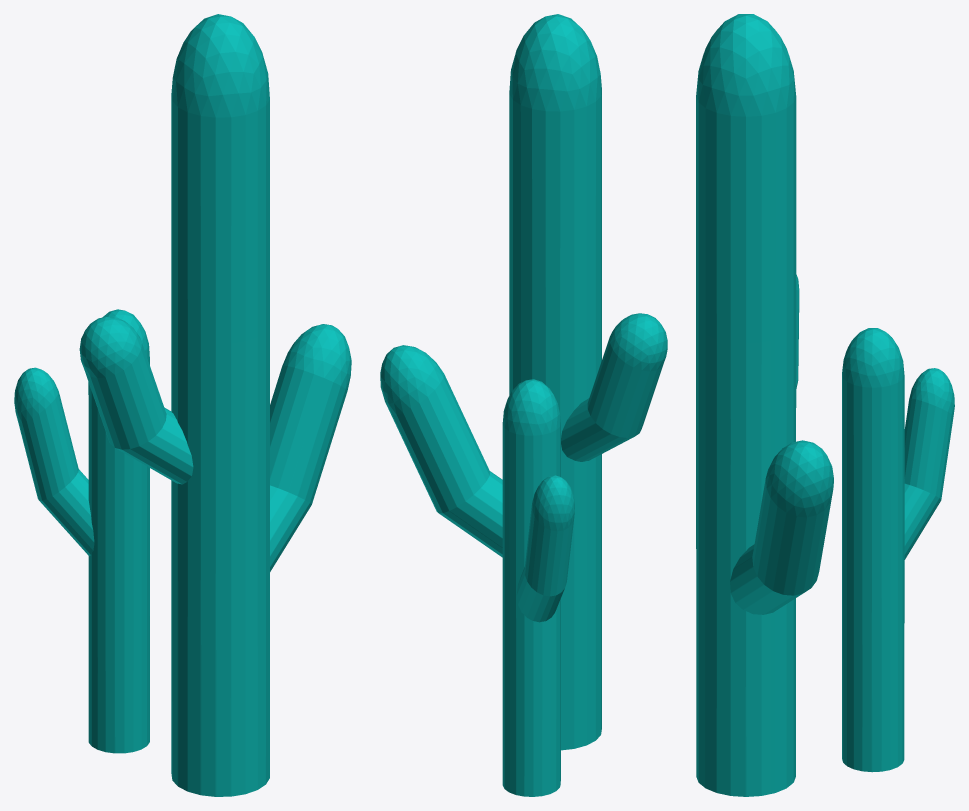
File: cactus.glb
3 views of the same model, side by side, from view 1: azimuth 30°, elevation 25°; view 2: azimuth 150°, elevation 25°; view 3: azimuth 270°, elevation 25° (orthographic). The views are drawn at different scales.
Parts seen in each view (by area): view 1: Icosphere.001; view 2: Icosphere.001; view 3: Icosphere.001.
Part boxes in pixels (left/top/right/bottom): Icosphere.001: left=14, top=14, right=351, bottom=796; Icosphere.001: left=380, top=14, right=667, bottom=796; Icosphere.001: left=696, top=14, right=954, bottom=796.
Size of the model in its own units: 0.5097 by 1.32 by 0.4064.
